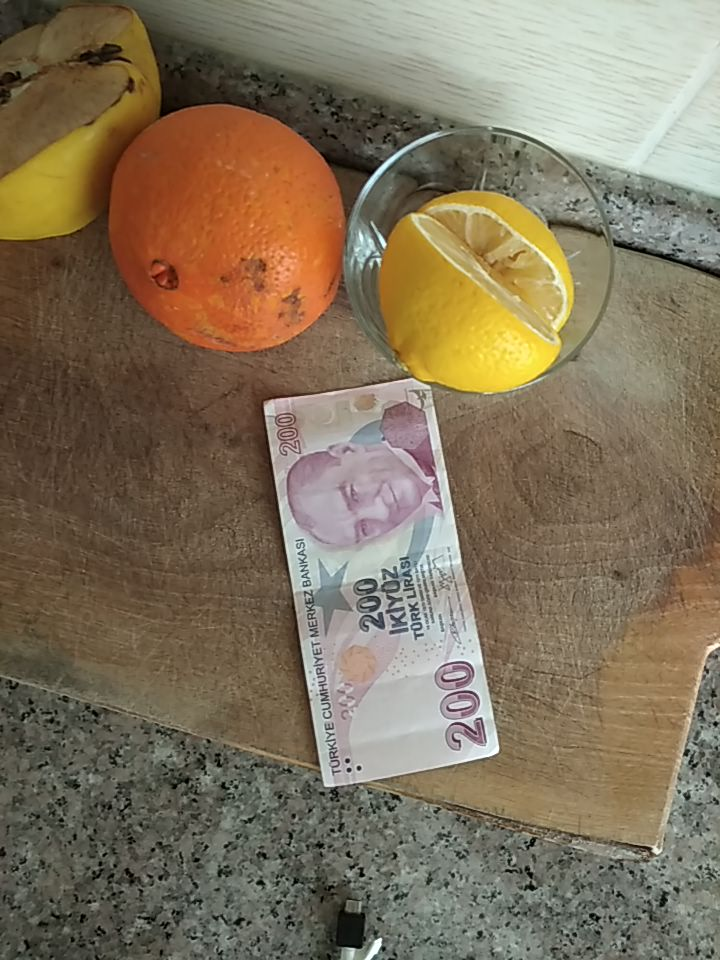200TL: (261, 375, 502, 793)
